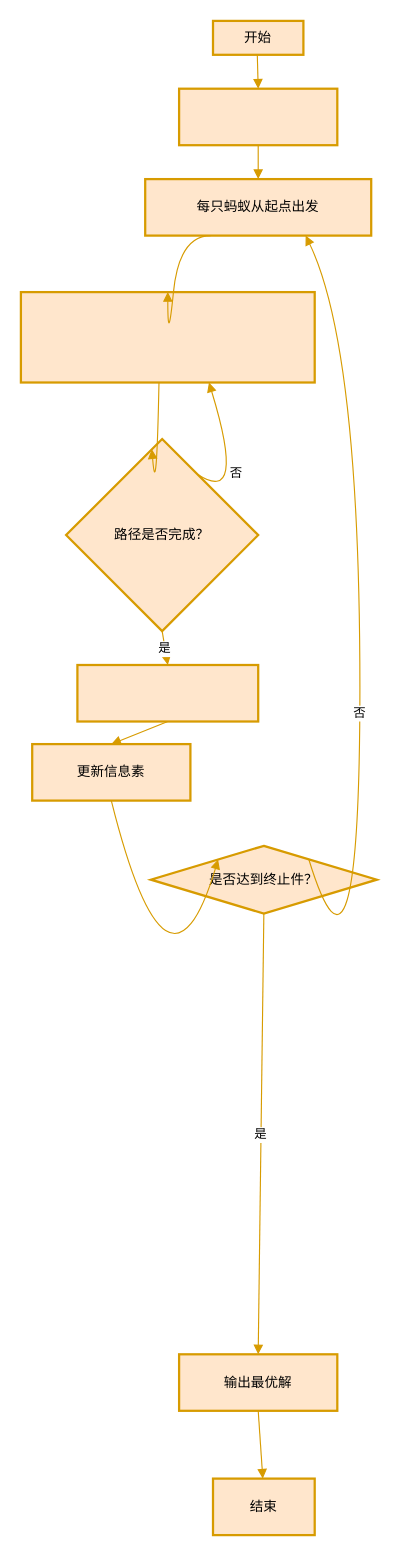
Image size: 397x1555. Some labels were removed from this diagram. The shapes that lost their labels are listed below. From the top down, each one's centre as x and y in pixels, then its label:
(257,116): 初始化参数
(167,336): 根据信息素和启发式选择下一城市
(167,692): 计算路径长度
